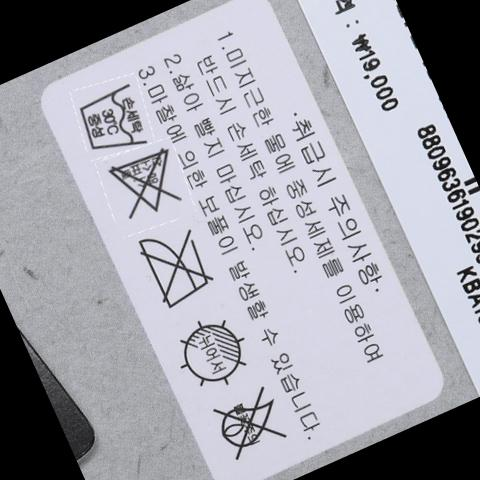DN_bleach: (111, 147, 175, 221)
DN_iron: (142, 219, 216, 309)
dry_flat_in_shade: (181, 316, 251, 384)
hand_wash: (81, 83, 149, 150)
